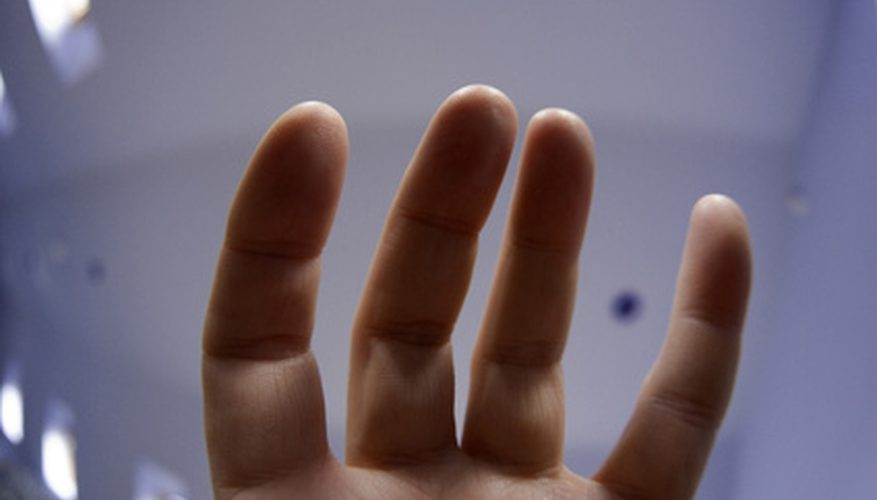finger: (349, 83, 519, 462), (189, 82, 341, 465), (466, 106, 613, 438), (592, 197, 763, 479)
